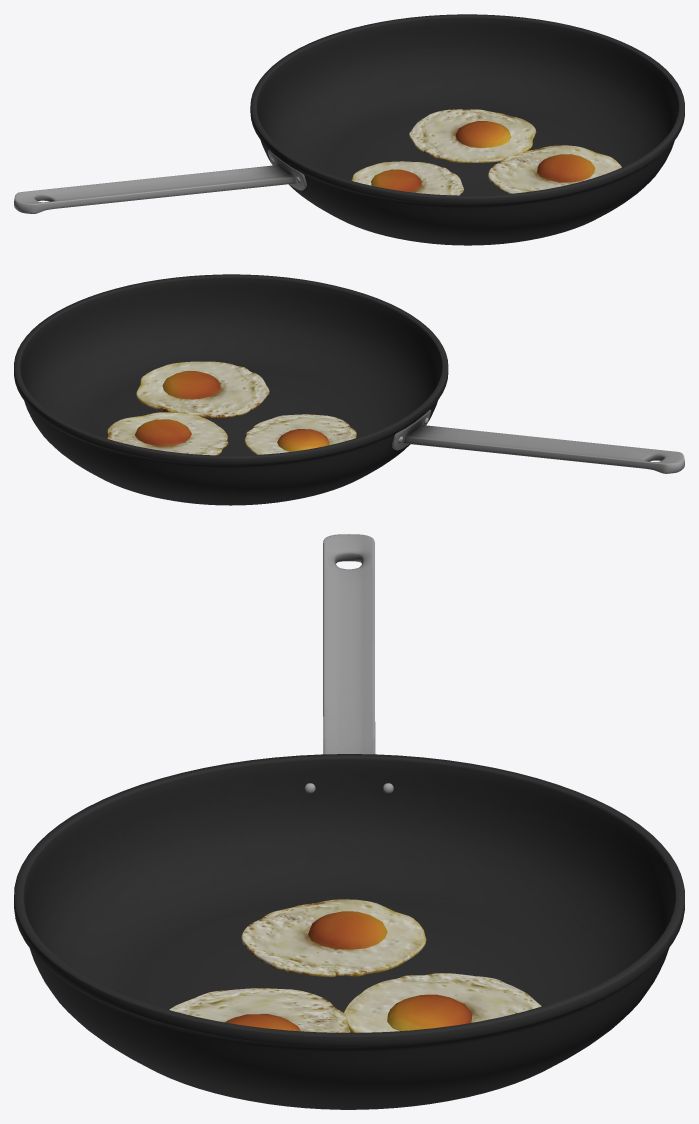
Rendered from frying_pan_with_fried_eggs.glb.
3 views of the same model, one above another, from view 1: azimuth 30°, elevation 25°; view 2: azimuth 150°, elevation 25°; view 3: azimuth 270°, elevation 25° (orthographic). The views are drawn at different scales.
Parts seen in each view (by area): view 1: frying pan, omlet; view 2: frying pan, omlet; view 3: frying pan, omlet.
Boxes of the visible parts, x1,y1,x2,y2 form: frying pan: (14, 14, 684, 245); omlet: (351, 109, 621, 195); frying pan: (14, 274, 684, 505); omlet: (107, 361, 356, 455); frying pan: (14, 534, 684, 1109); omlet: (169, 899, 541, 1032).
Bounding box in the file's own units: 0.5895 × 0.0774 × 0.3475.
2 materials, 2 textured.
